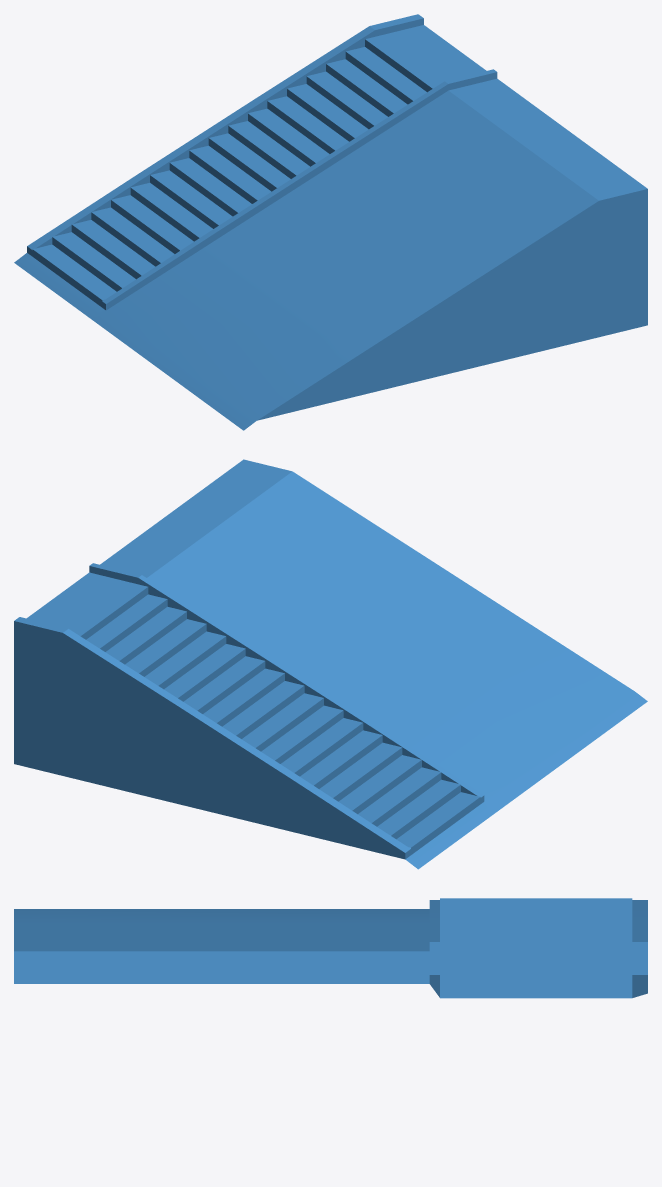
The model's file is Pod_Incline_A.fbx.
3 renders of one model, top to bottom at view 1: azimuth 30°, elevation 25°; view 2: azimuth 150°, elevation 25°; view 3: azimuth 270°, elevation 25°, orthographic. The views are drawn at different scales.
Parts seen in each view (by area): view 1: Pod_Incline_A; view 2: Pod_Incline_A; view 3: Pod_Incline_A.
Part boxes in pixels (x1,y1,x2,y2): Pod_Incline_A: (14,14,647,430); Pod_Incline_A: (14,459,647,869); Pod_Incline_A: (14,898,647,998).
Bounding box in the file's own units: 930 × 329 × 915.
